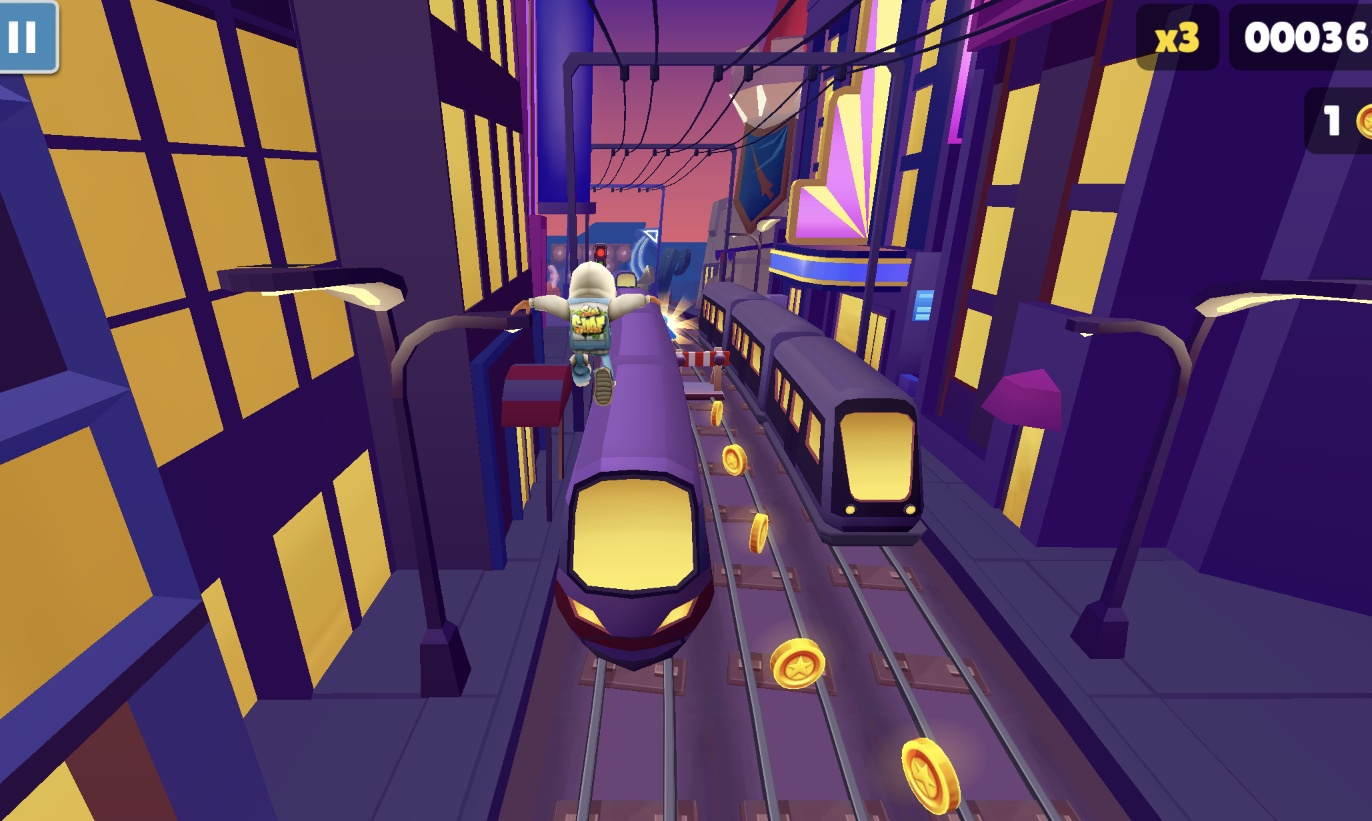ground_barrier: (672, 348, 730, 397)
pillar: (624, 255, 722, 311)
train: (555, 296, 723, 669), (711, 285, 928, 551), (688, 268, 723, 292)
